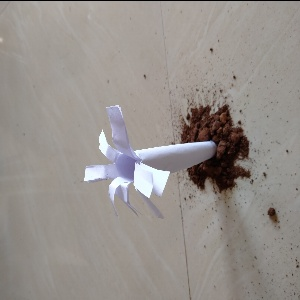weed: (82, 101, 221, 210)
